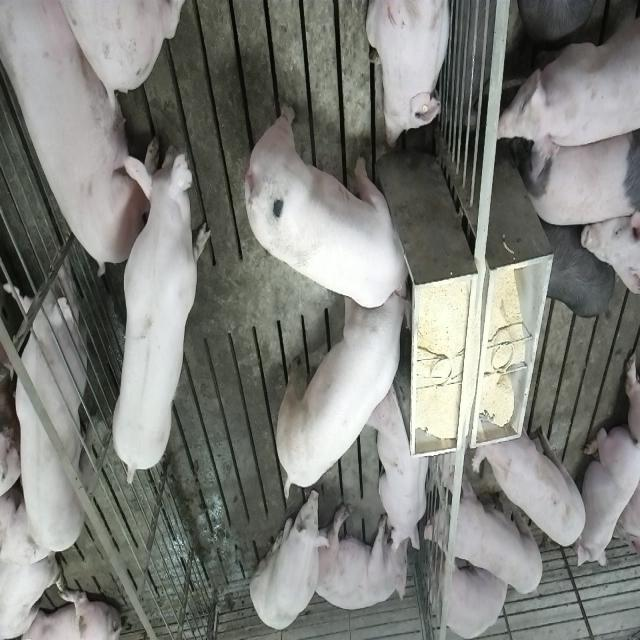Feeding: (248, 100, 420, 308), (273, 279, 409, 502)
Lateral_lying: (3, 4, 159, 278), (314, 504, 410, 610)
Sitting: (250, 485, 330, 632)
Standing: (107, 132, 209, 488), (0, 233, 94, 559), (496, 0, 638, 178), (473, 404, 588, 548), (422, 470, 544, 598), (518, 121, 637, 229), (543, 221, 617, 321)
Sternal_lying: (367, 0, 454, 150), (370, 379, 432, 554), (578, 418, 638, 568)
